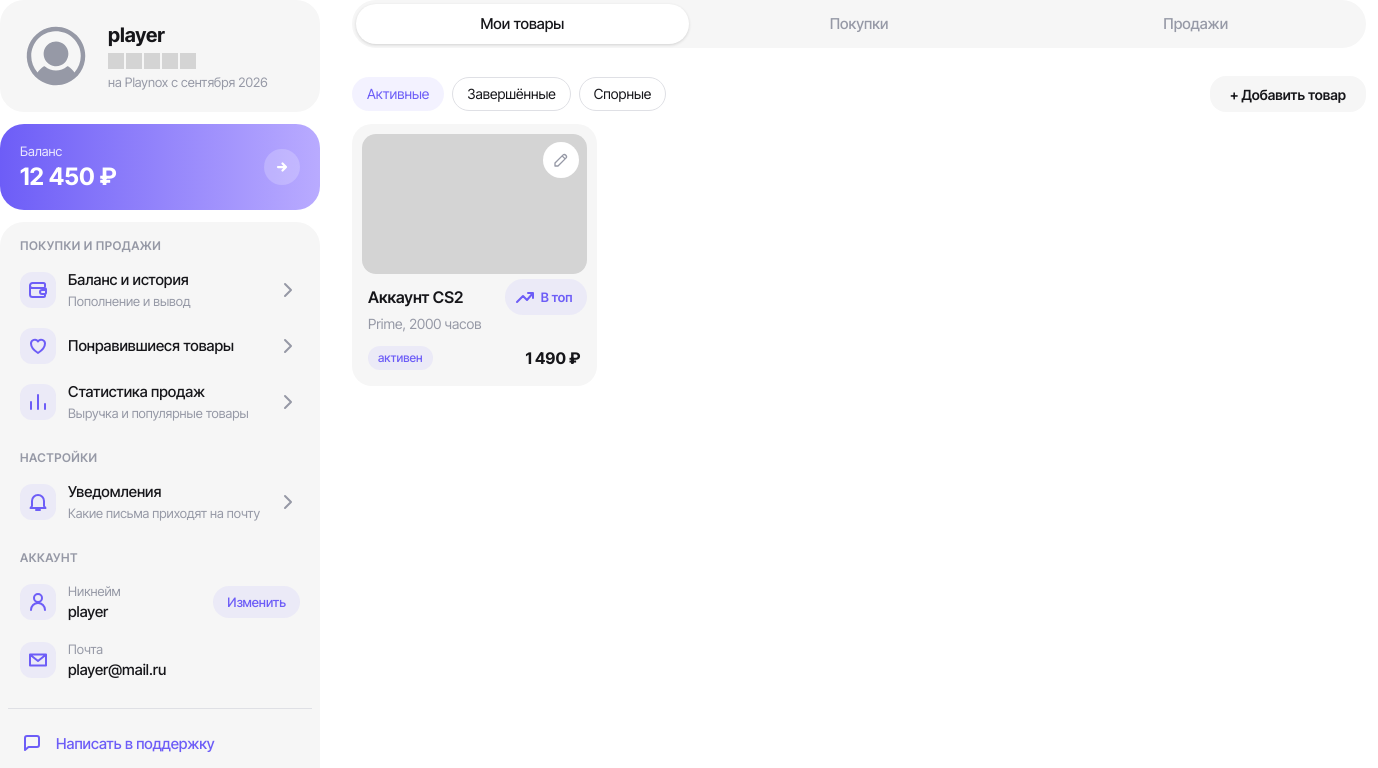
Scenario: ProfileScreen › switches tabs and filters through the url
expect the tab "Мои товары" is shown: met, box [356,4,689,44]
What coordinates should you click on to do the following:
click the tab "Продажи"
I would click on:
 (1196, 24)
Its box is [1029,4,1362,44].
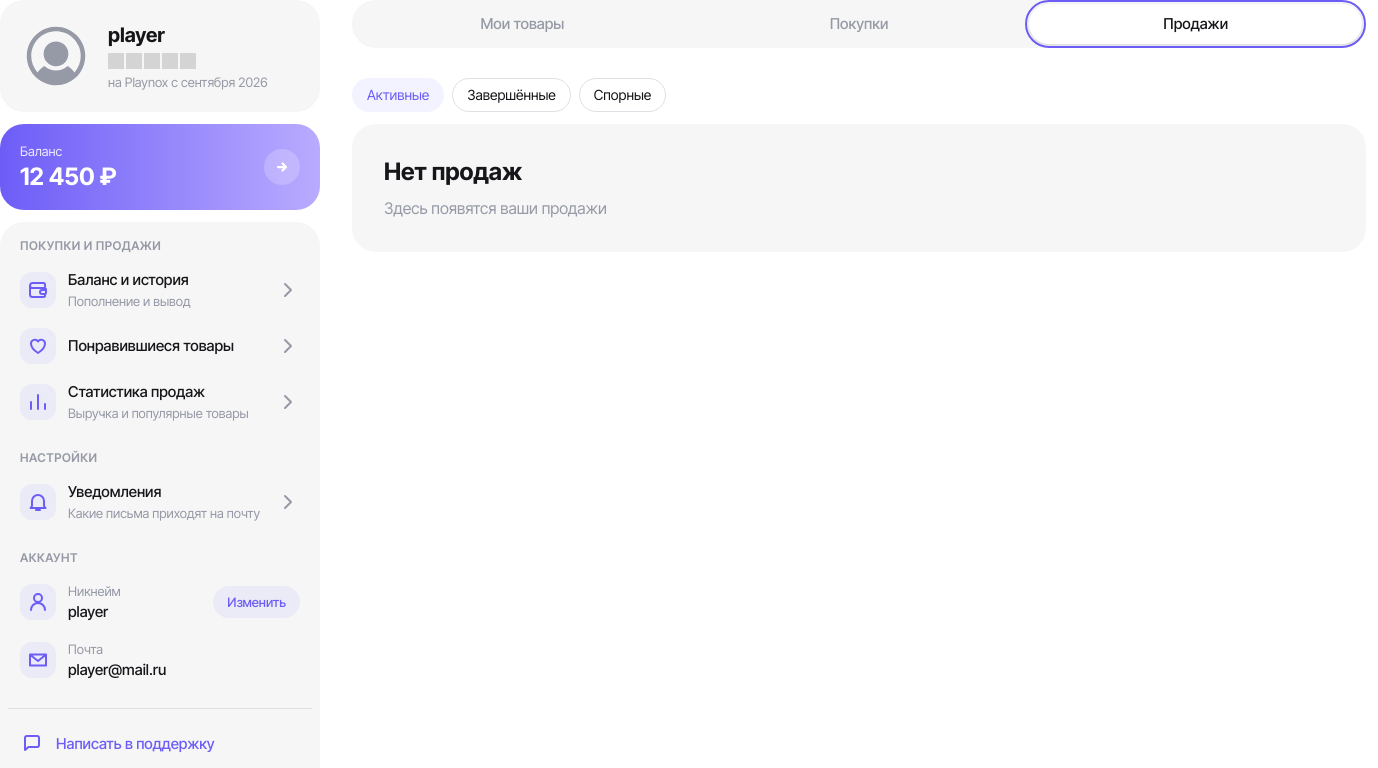
What coordinates should you click on to do the following:
click the button "Спорные"
I would click on:
 (622, 95)
Its box is [579,78,666,112].
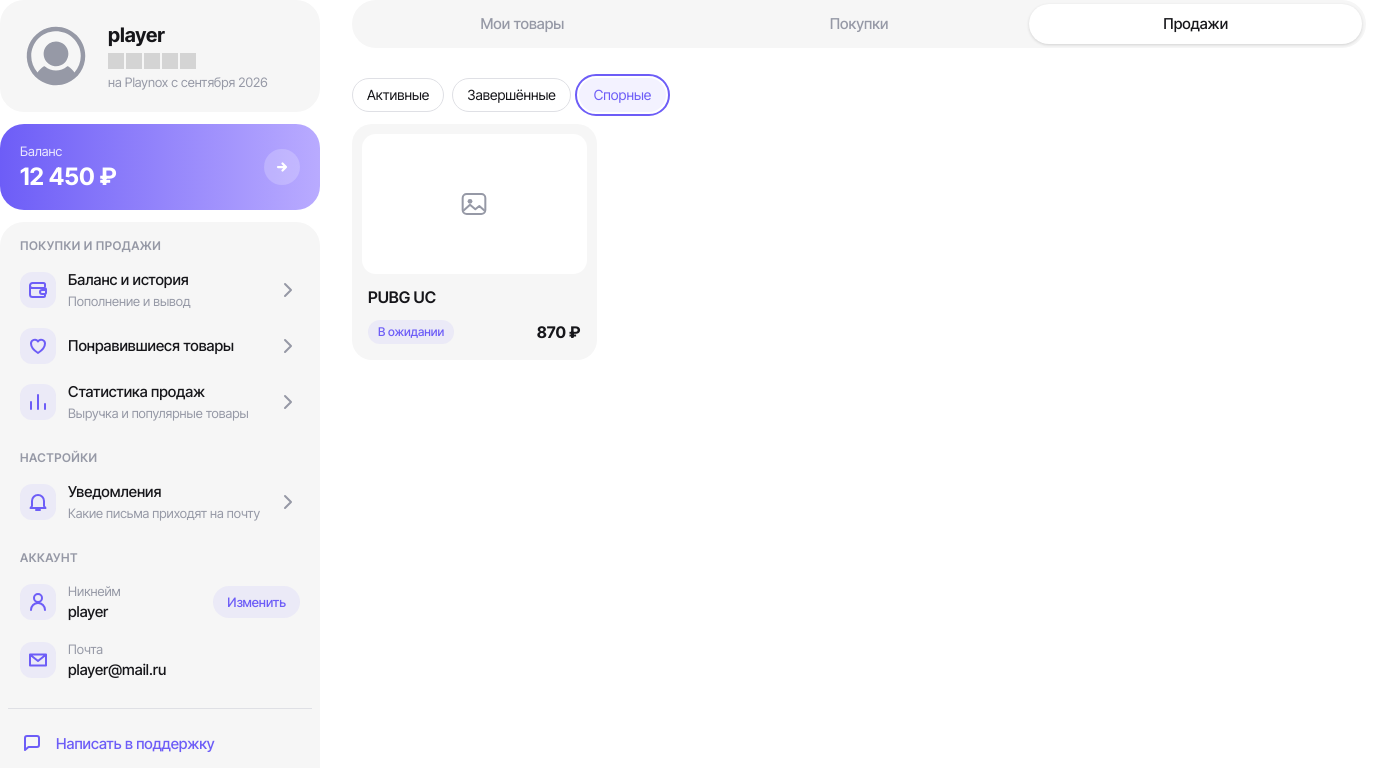
expect the text "В ожидании" is shown: met, box [368,320,454,344]
